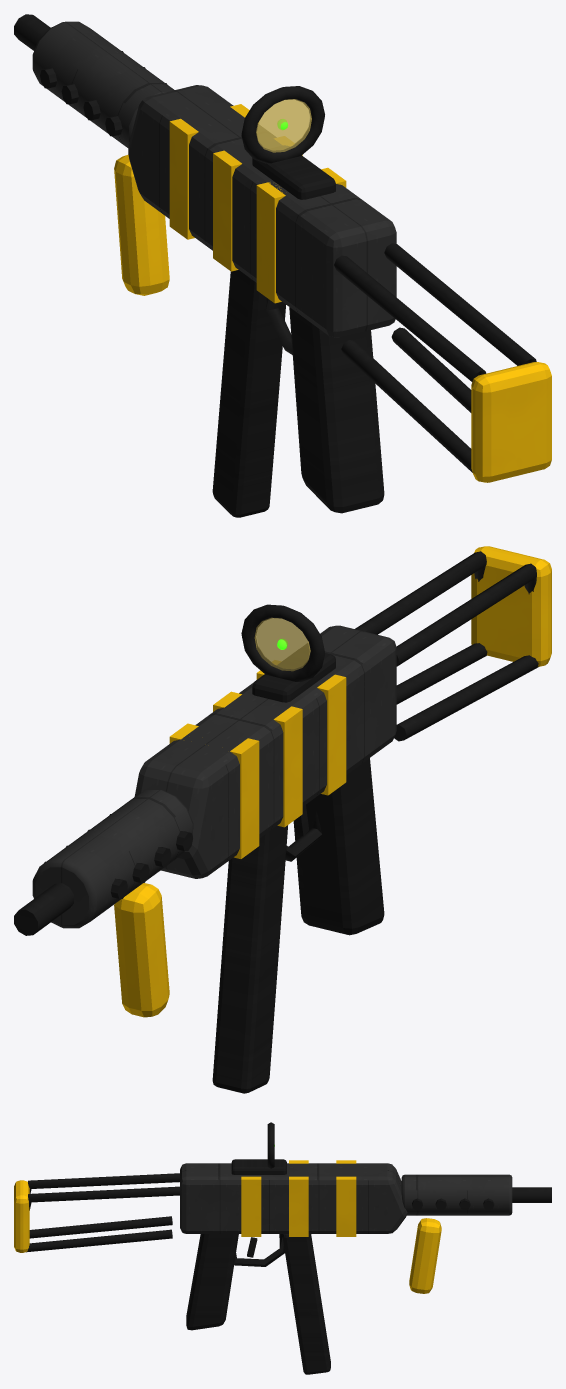
File: weapon_hornet_smg.glb
3 views of the same model, one above another, from view 1: azimuth 30°, elevation 25°; view 2: azimuth 150°, elevation 25°; view 3: azimuth 270°, elevation 25° (orthographic). The views are drawn at different scales.
Visible parts, largest first — view 1: weapon_hornet_smg; view 2: weapon_hornet_smg; view 3: weapon_hornet_smg.
Boxes of the visible parts, x1=… form: weapon_hornet_smg: x1=14, y1=14, x2=551, y2=517; weapon_hornet_smg: x1=14, y1=546, x2=551, y2=1093; weapon_hornet_smg: x1=14, y1=1122, x2=551, y2=1374.
Bounding box in the file's own units: 0.0667 × 0.3438 × 0.68.
5 materials, 3 textured.
